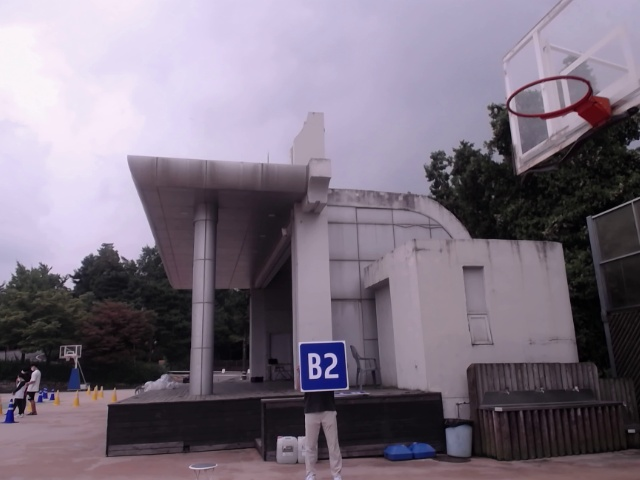delivery_b2: (299, 343, 349, 391)
